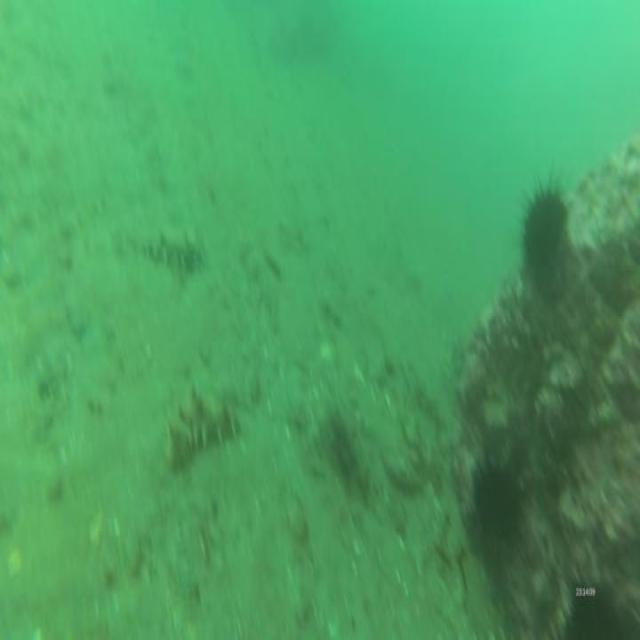echinus: (519, 183, 572, 280), (470, 455, 524, 541), (564, 569, 620, 640)
holothurian: (162, 384, 242, 469), (136, 228, 204, 276)
